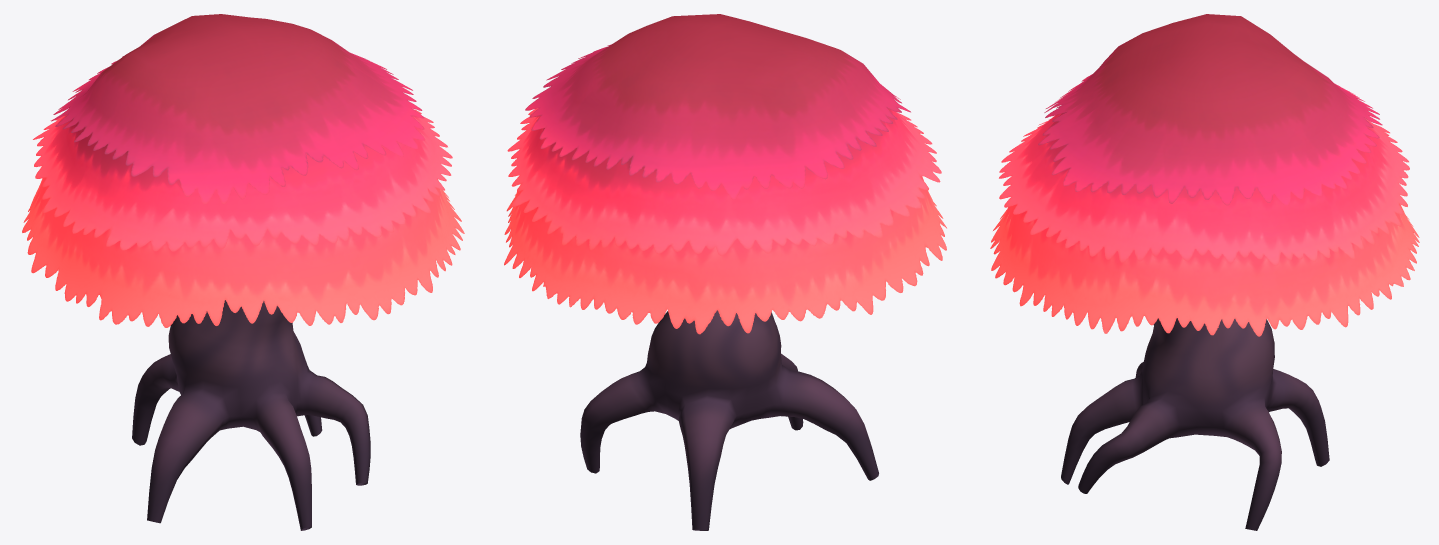
Rendered from EXP_Tree_Default_01.fbx.
3 renders of one model, left to right at view 1: azimuth 30°, elevation 25°; view 2: azimuth 150°, elevation 25°; view 3: azimuth 270°, elevation 25°, orthographic. The views are drawn at different scales.
Parts seen in each view (by area): view 1: OBJ_Tree_Default_01_lod0; view 2: OBJ_Tree_Default_01_lod0; view 3: OBJ_Tree_Default_01_lod0.
Boxes of the visible parts, x1,y1,x2,y2 form: OBJ_Tree_Default_01_lod0: [22, 14, 464, 530]; OBJ_Tree_Default_01_lod0: [504, 14, 946, 530]; OBJ_Tree_Default_01_lod0: [990, 14, 1419, 530].
Size of what is drawn, in the model's own units: 3.8 by 4.19 by 3.81.
Materials: 1 (1 with a texture image).
